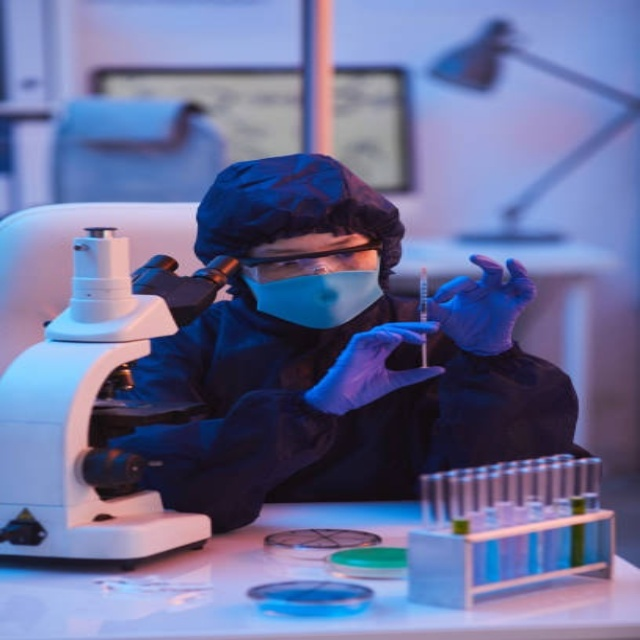Gafas: (234, 241, 382, 282)
Guantes: (304, 321, 446, 417), (423, 254, 536, 358)
Mascara: (238, 252, 386, 330)
